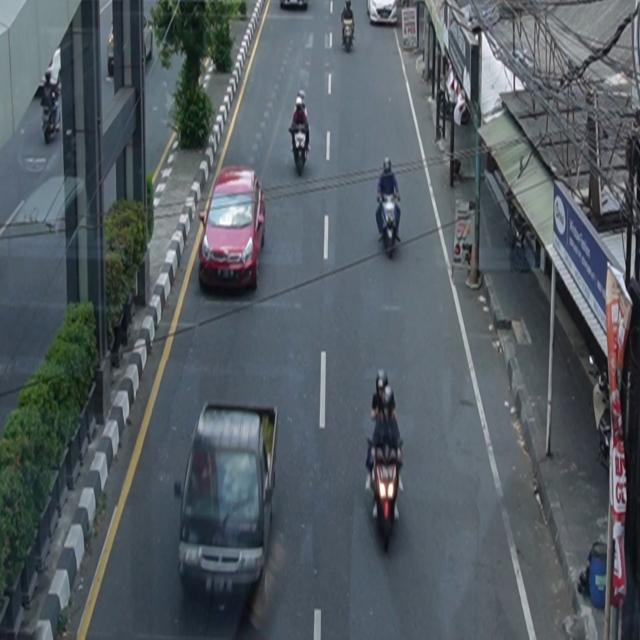car: (175, 402, 279, 607), (199, 165, 266, 293), (107, 15, 154, 78), (367, 1, 398, 26), (280, 1, 308, 10)
